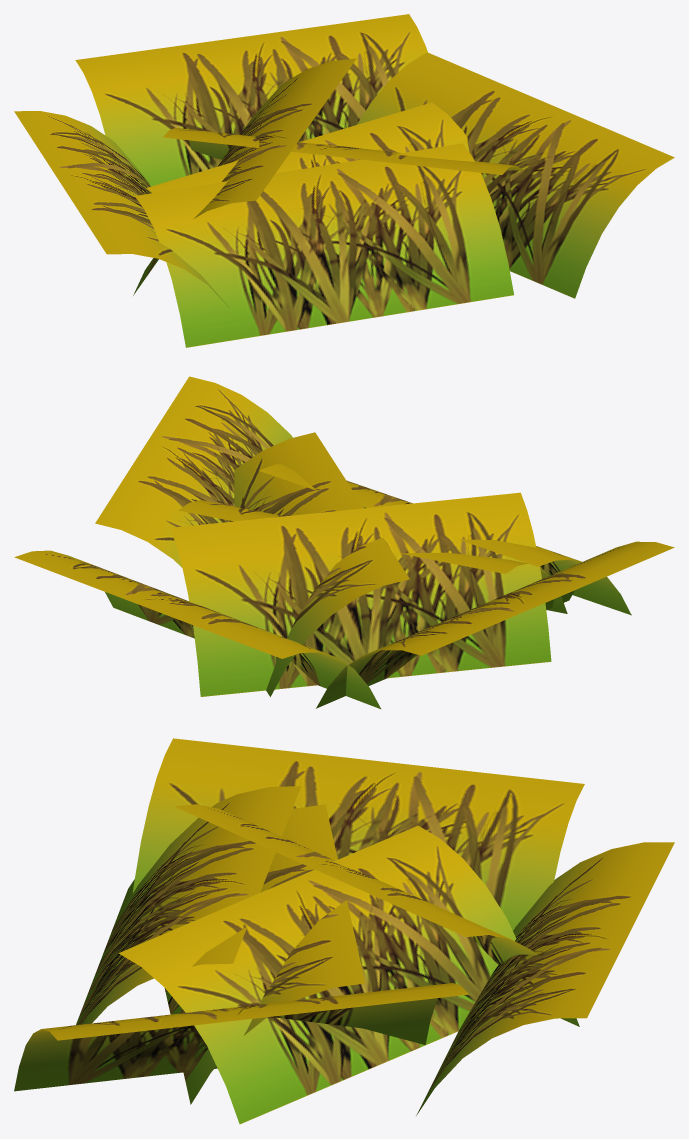
The model's file is sb_obj_nature002_Grass02c.fbx.
The picture shows the model from 3 angles, top to bottom: view 1: azimuth 30°, elevation 25°; view 2: azimuth 150°, elevation 25°; view 3: azimuth 270°, elevation 25°; orthographic projection. The views are drawn at different scales.
Parts seen in each view (by area): view 1: sb_obj_nature002_Grass02c; view 2: sb_obj_nature002_Grass02c; view 3: sb_obj_nature002_Grass02c.
Boxes of the visible parts, left/top/right/bottom form: sb_obj_nature002_Grass02c: left=14, top=14, right=674, bottom=347; sb_obj_nature002_Grass02c: left=14, top=376, right=674, bottom=709; sb_obj_nature002_Grass02c: left=14, top=738, right=674, bottom=1124.
Bounding box in the file's own units: 1.71 × 0.3658 × 1.55.
